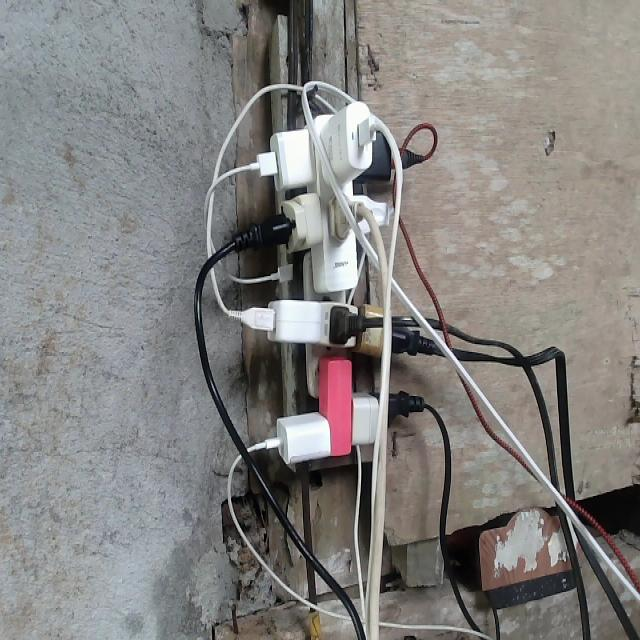-: (257, 100, 416, 464)
